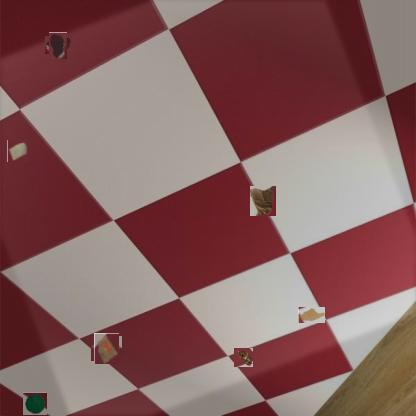dirty: (250, 186, 276, 216), (92, 335, 120, 362), (23, 392, 47, 415), (7, 140, 28, 162), (233, 347, 253, 367)
liquid: (47, 34, 70, 57), (298, 307, 325, 323)
